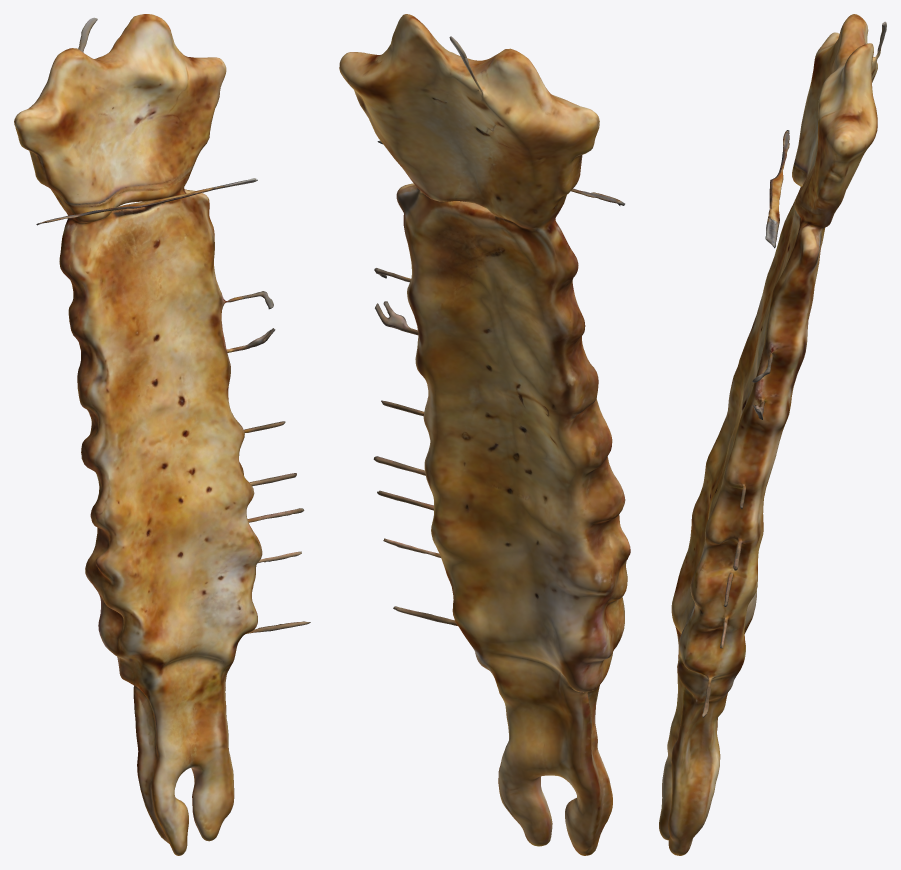
File: human_sternum.glb
3 renders of one model, left to right at view 1: azimuth 30°, elevation 25°; view 2: azimuth 150°, elevation 25°; view 3: azimuth 270°, elevation 25°, orthographic. The views are drawn at different scales.
Size of the model in its own units: 0.6553 by 2 by 0.5.
Materials: 1 (1 with a texture image).
